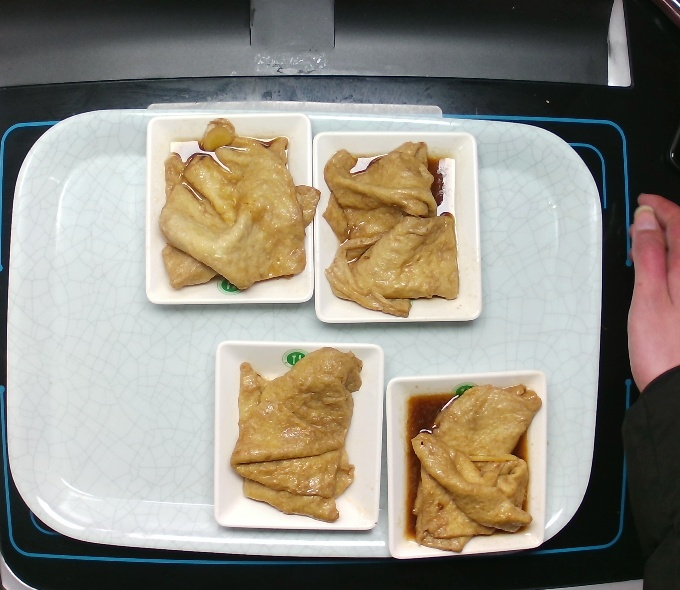wcq-YouDouFu: (157, 120, 314, 292), (324, 147, 469, 308), (223, 351, 368, 512), (400, 384, 545, 545)
